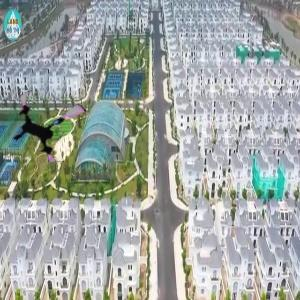drone: (6, 84, 90, 168)
